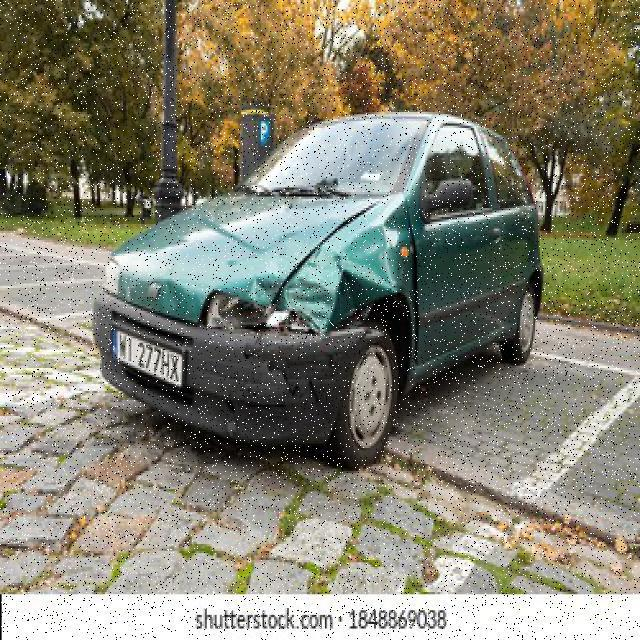bumper: (284, 231, 417, 334)
headlight: (107, 196, 286, 327)
hood: (176, 330, 370, 454)
